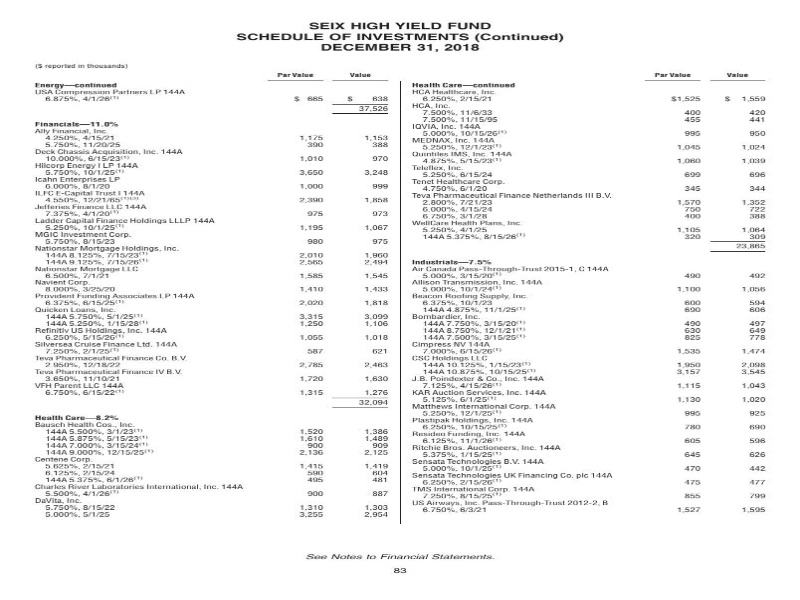table: (16, 55, 407, 545), (393, 62, 780, 533)
